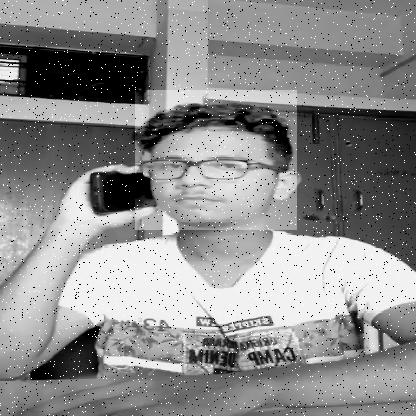Distracted: (135, 90, 297, 230)
